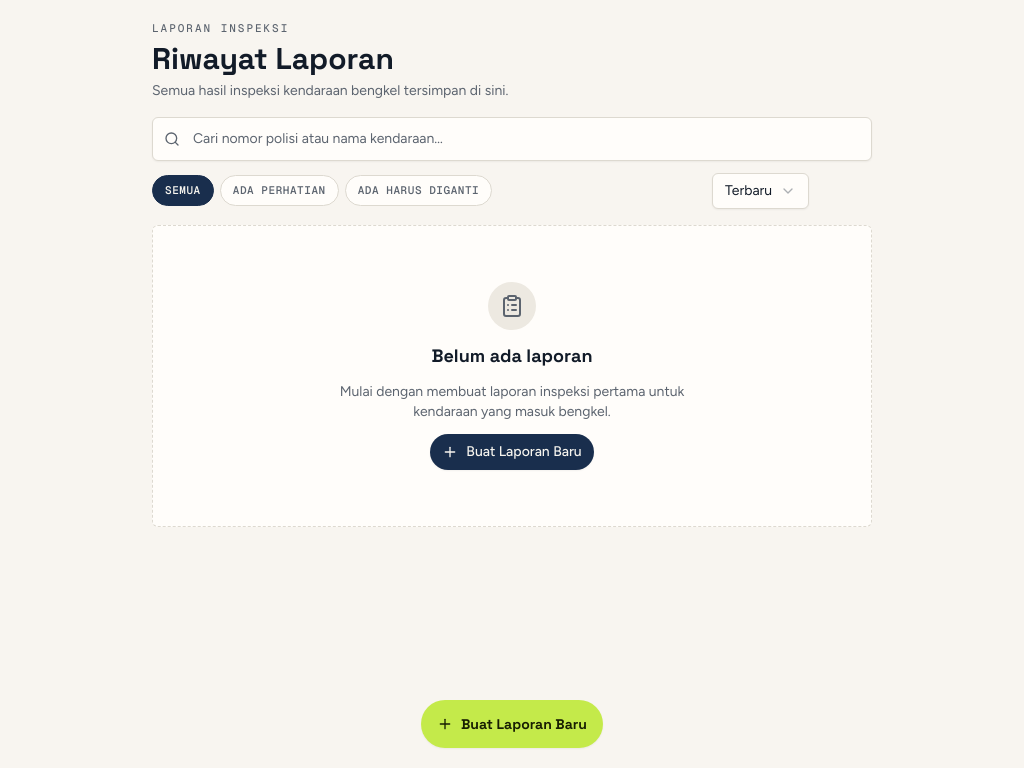
Test: ReportListPage › shows a filtered empty state and resets it
Expected: the heading "Belum ada laporan" is shown, [432, 342, 592, 370]
Type "tidak-ada" into the field named "Cari laporan".
click(512, 138); type("tidak-ada")  # box [152, 116, 872, 160]
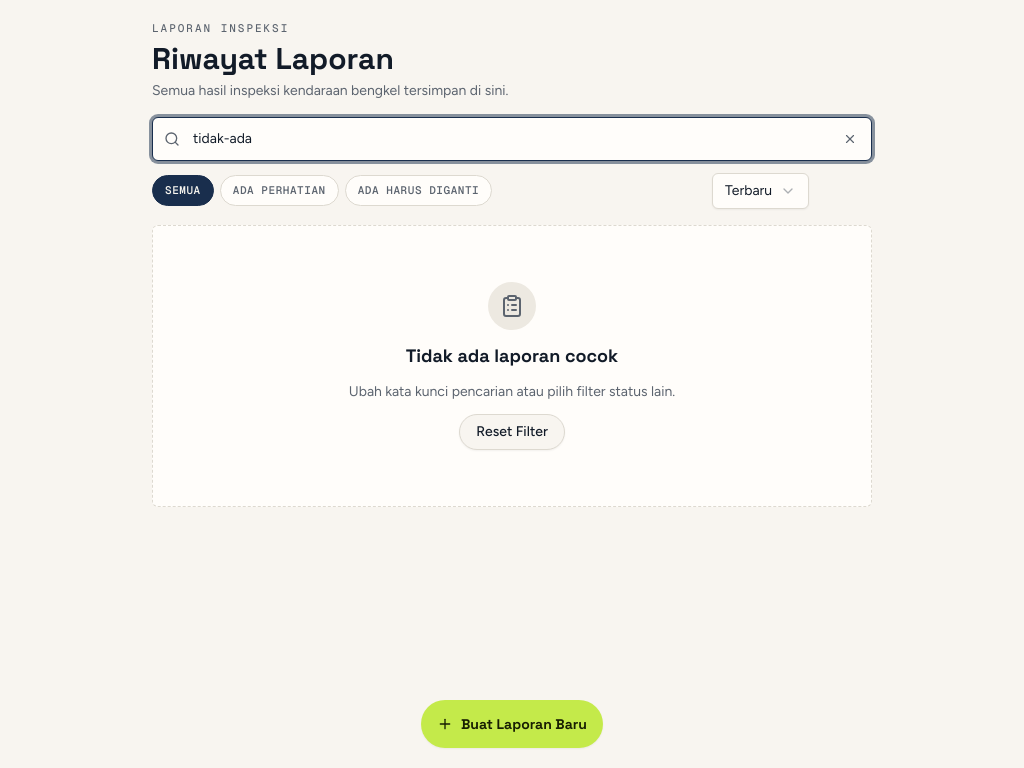
Expected: the heading "Tidak ada laporan cocok" is shown, [406, 342, 618, 370]
Click the button "Reset Filter".
click(512, 432)  # box [459, 414, 565, 450]
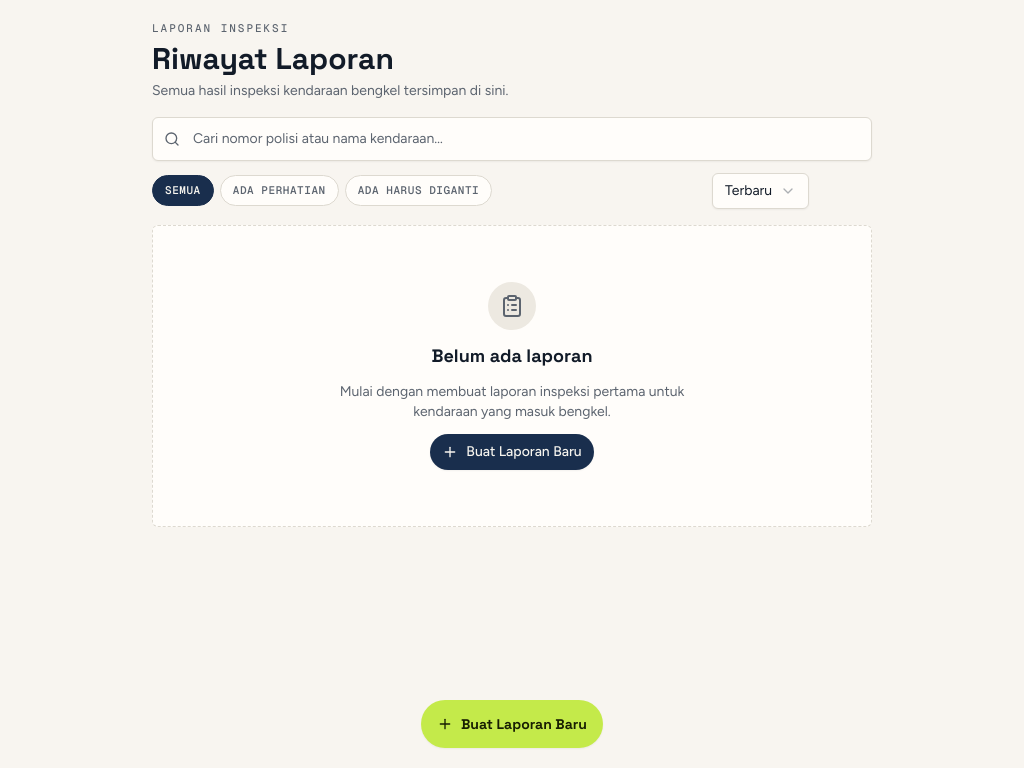
Expected: the heading "Belum ada laporan" is shown, [432, 342, 592, 370]
